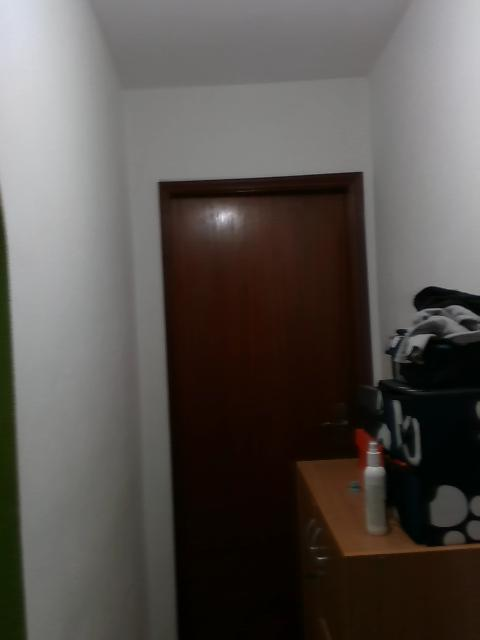door: (173, 188, 358, 640)
